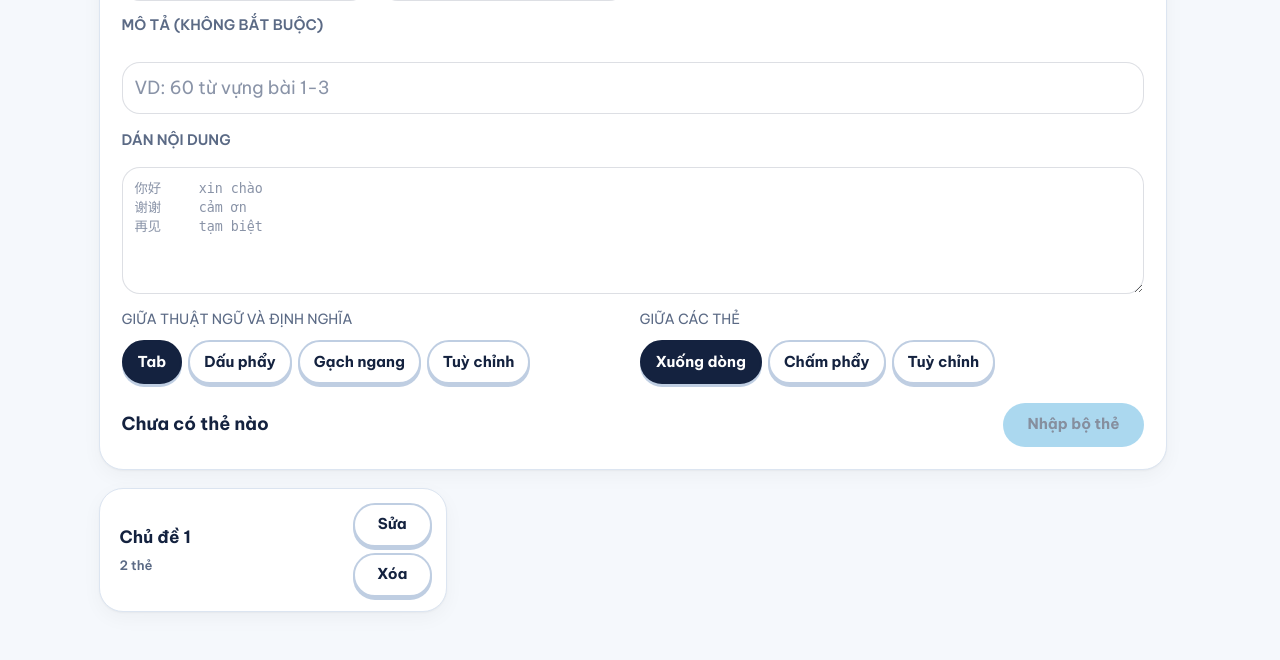
Test: FlashcardsPage › giảng viên bấm Sửa thì nội dung bộ thẻ được đổ vào ô nhập
The image size is (1280, 660).
(page scrolled)
Click the button "Sửa".
click(392, 524)  # box [353, 502, 432, 546]
(page scrolled)
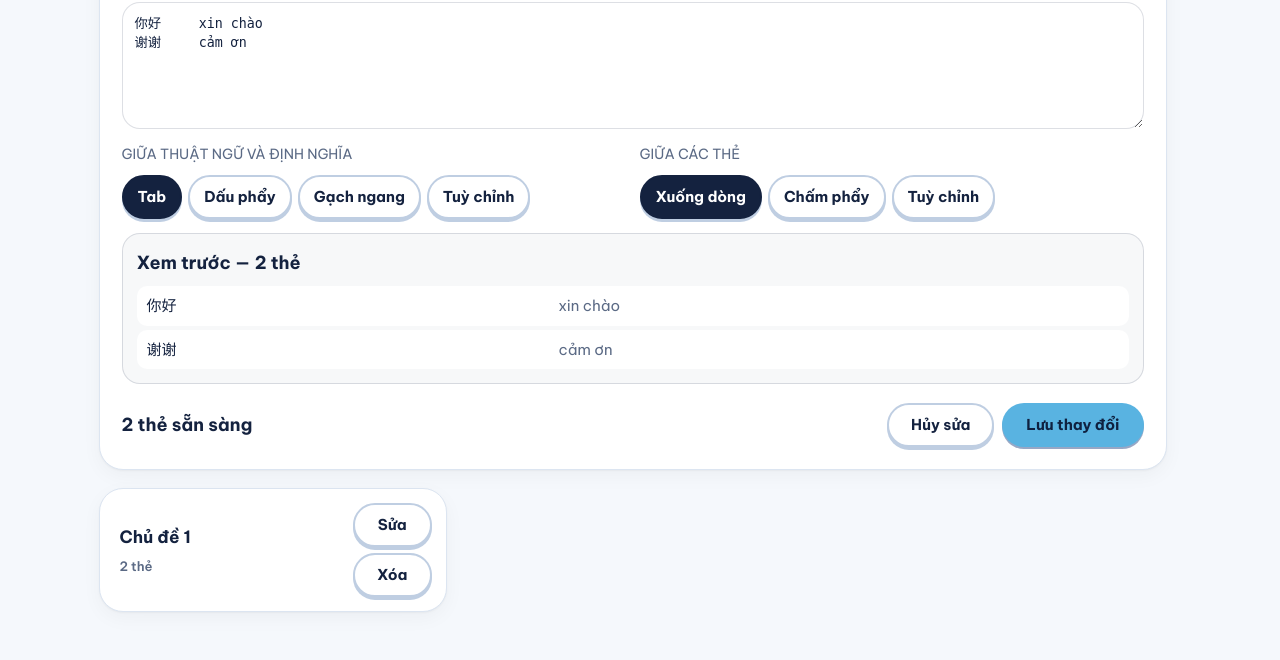
Expected: the button "Lưu thay đổi" is enabled, [1002, 403, 1144, 447]
